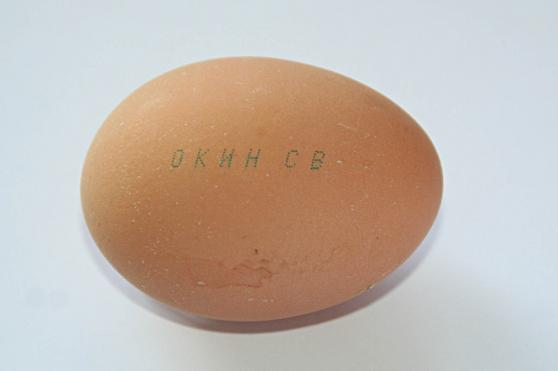egg: (84, 55, 450, 331)
